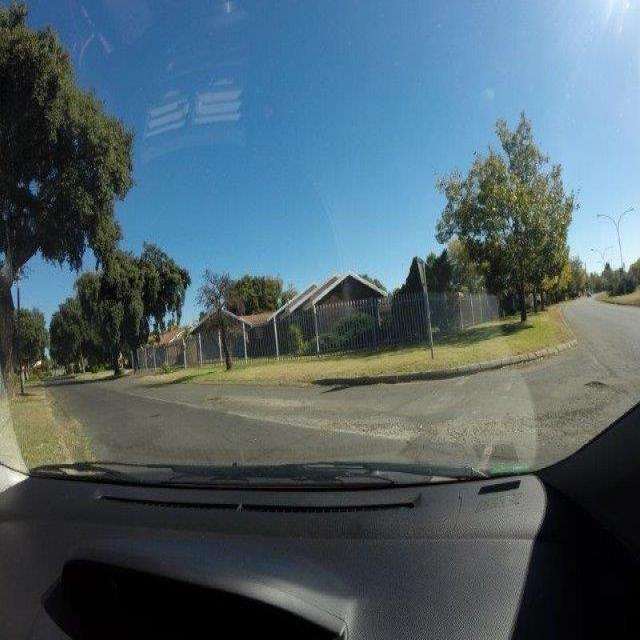jalan retak: (425, 405, 608, 435), (420, 416, 524, 456), (329, 414, 432, 446)
lubang: (577, 379, 615, 397), (200, 390, 230, 412), (145, 406, 165, 429)
